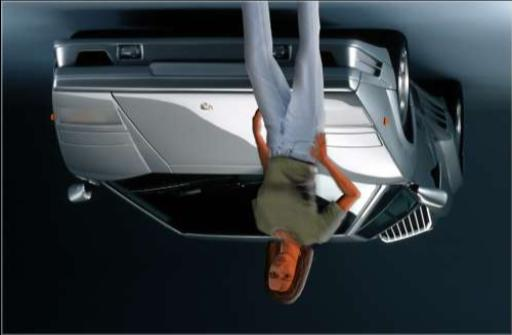Cheetah: (33, 15, 481, 258)
